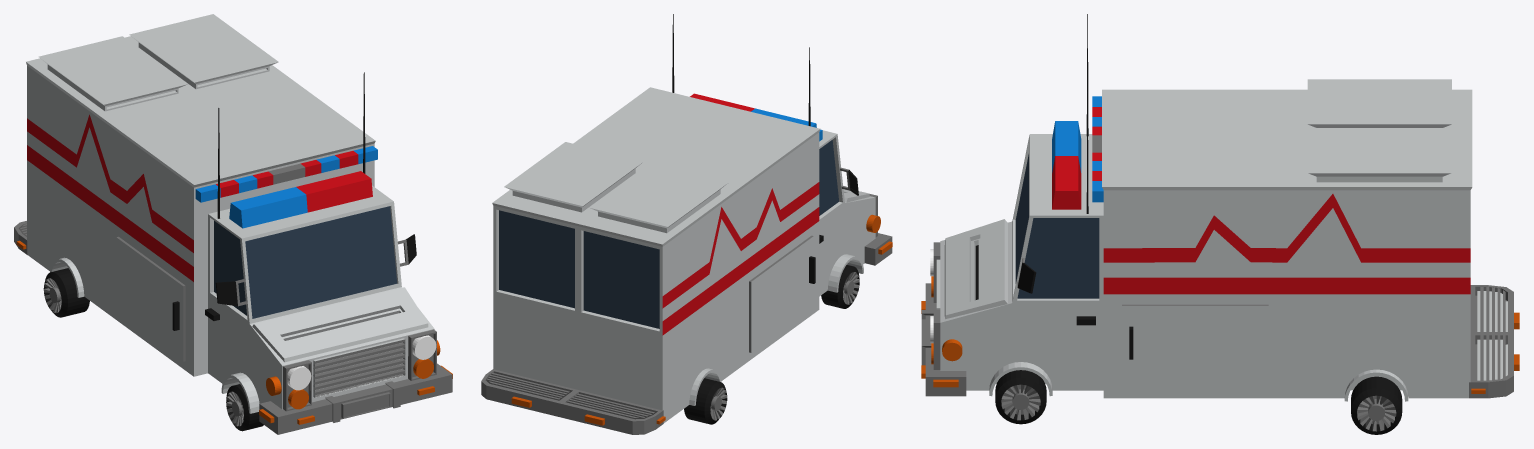
Rendered from Ambulance.fbx.
3 renders of one model, left to right at view 1: azimuth 30°, elevation 25°; view 2: azimuth 150°, elevation 25°; view 3: azimuth 270°, elevation 25°, orthographic. The views are drawn at different scales.
Visible parts, largest first — view 1: Ambulance, wheels2, wheels1; view 2: Ambulance, wheels2, wheels1; view 3: Ambulance, wheels2, wheels1.
Part boxes in pixels (bbox=[...]): Ambulance: bbox=[14, 14, 452, 434]; wheels2: bbox=[43, 268, 89, 317]; wheels1: bbox=[226, 384, 263, 431]; Ambulance: bbox=[481, 14, 892, 434]; wheels2: bbox=[684, 378, 727, 424]; wheels1: bbox=[821, 265, 859, 308]; Ambulance: bbox=[921, 14, 1519, 401]; wheels2: bbox=[1351, 376, 1402, 434]; wheels1: bbox=[995, 370, 1046, 424].
Size of the model in its own units: 297 by 392 by 652.
